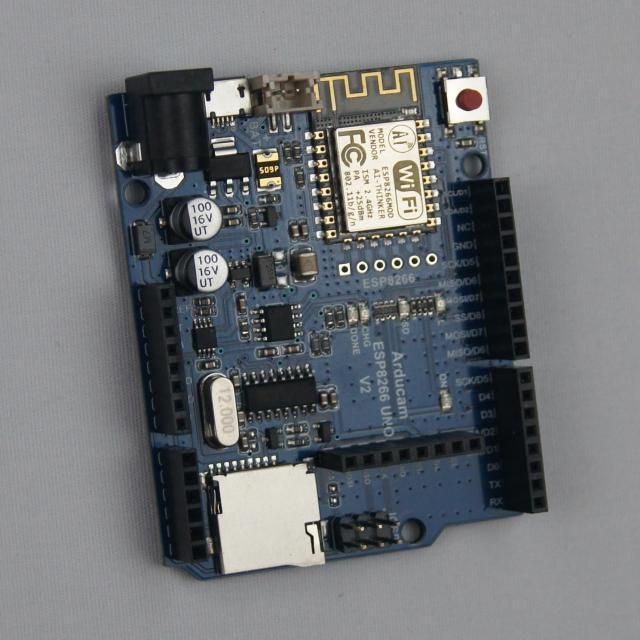Arduino Uno Camera Shield: (109, 60, 547, 579)
